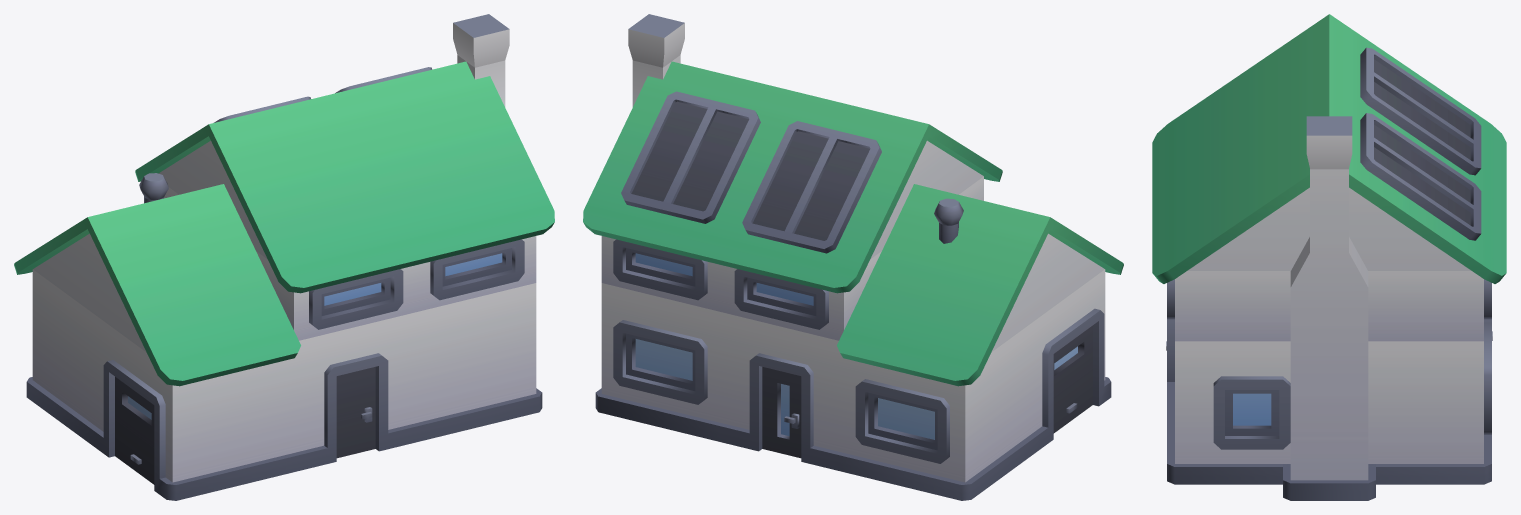
File: kenney-city-suburban-building-type-j.glb
The picture shows the model from 3 angles, left to right: view 1: azimuth 30°, elevation 25°; view 2: azimuth 150°, elevation 25°; view 3: azimuth 270°, elevation 25°; orthographic projection. The views are drawn at different scales.
Parts seen in each view (by area): view 1: building-type-j; view 2: building-type-j; view 3: building-type-j.
Part boxes in pixels (x1,y1,x2,y2): building-type-j: (14,14,554,500); building-type-j: (583,14,1123,500); building-type-j: (1152,14,1506,500).
Bounding box in the file's own units: 1.37 × 1.04 × 0.9161.
Materials: 1 (1 with a texture image).
